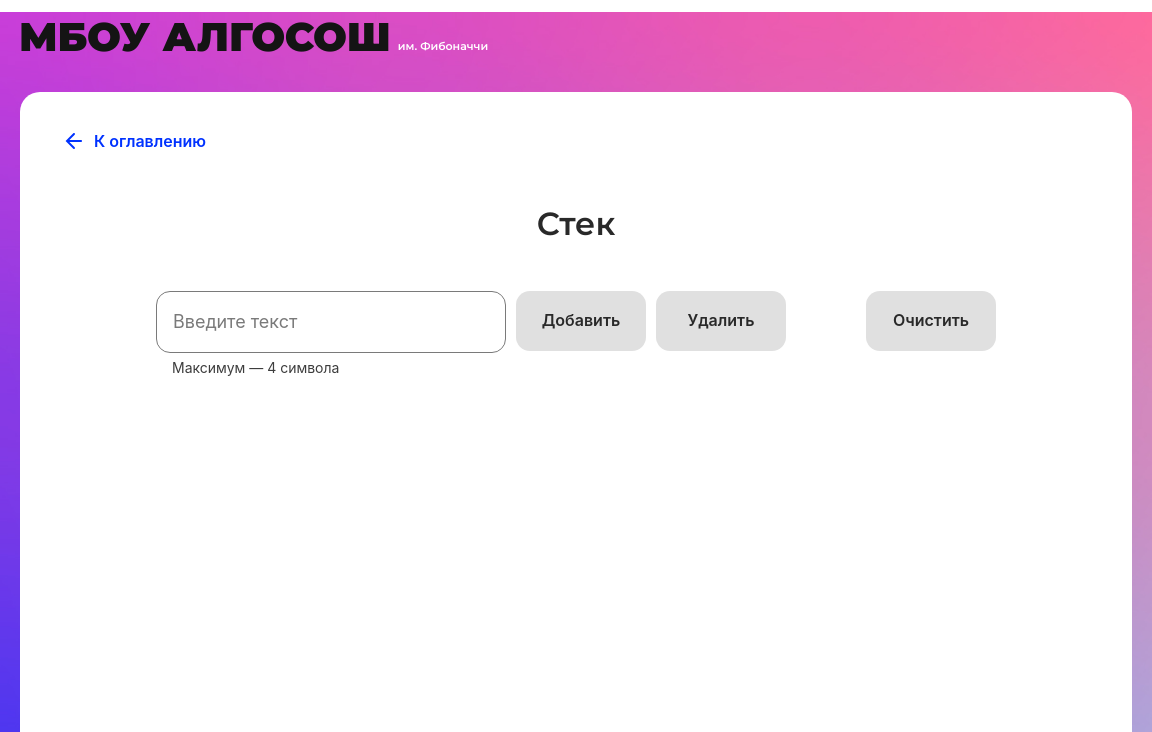
Test case: Stack test › The element is being added correctly
Type "1" into the field with placeholder "Введите текст" at (331, 322), box [156,291,506,353]
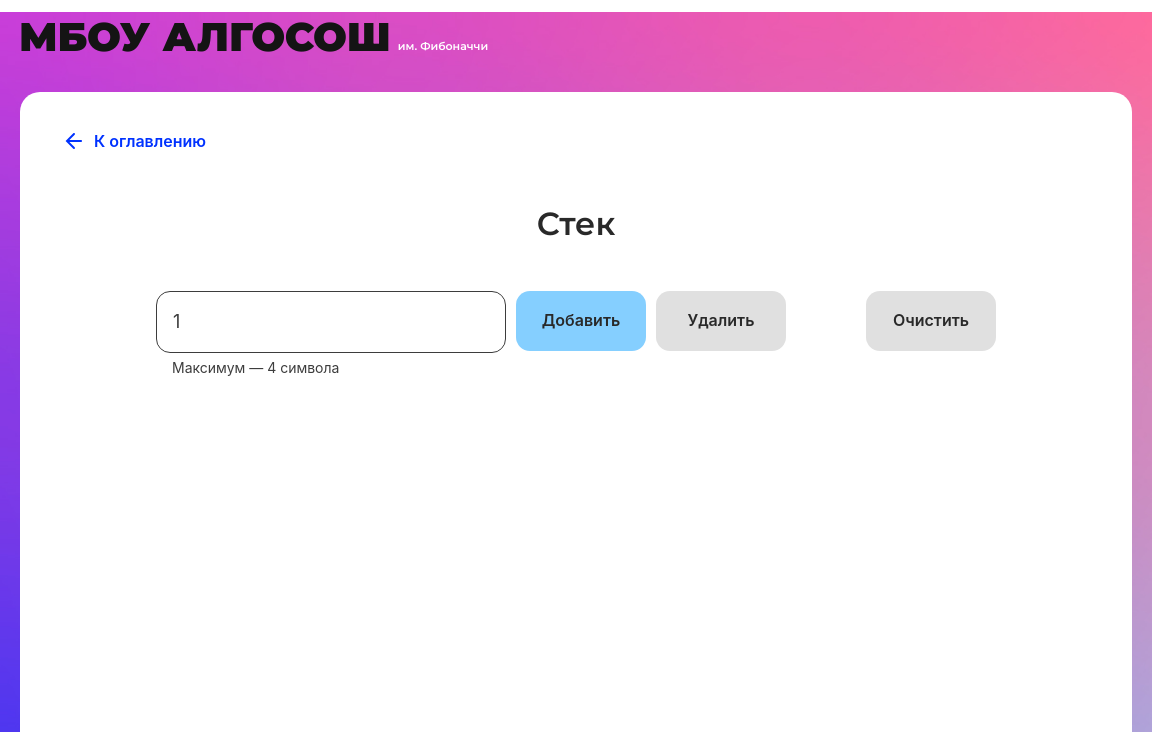
Click the submit button at (581, 321), box [516,291,646,351]
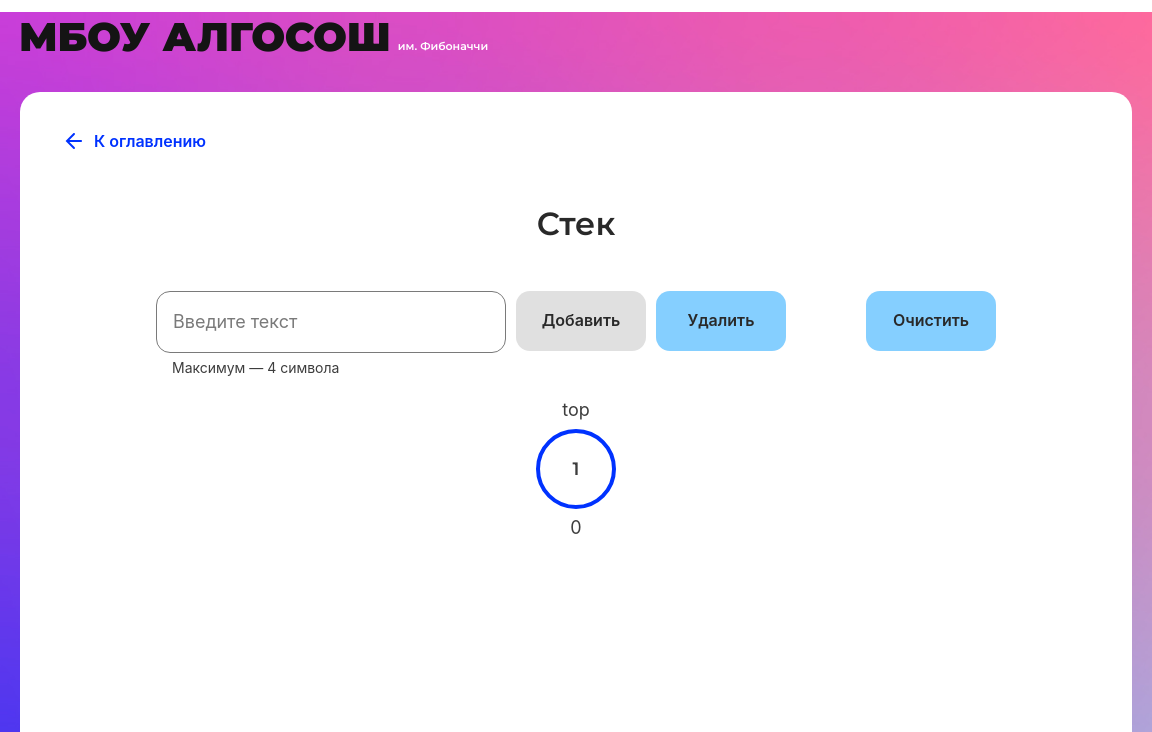
Expected: the number of elements with test id "contetnt" is 1, [536,429,616,509]
Expected: the text "1" is shown, [573,458,580,480]
Type "2" into the field with placeholder "Введите текст" at (331, 322), box [156,291,506,353]
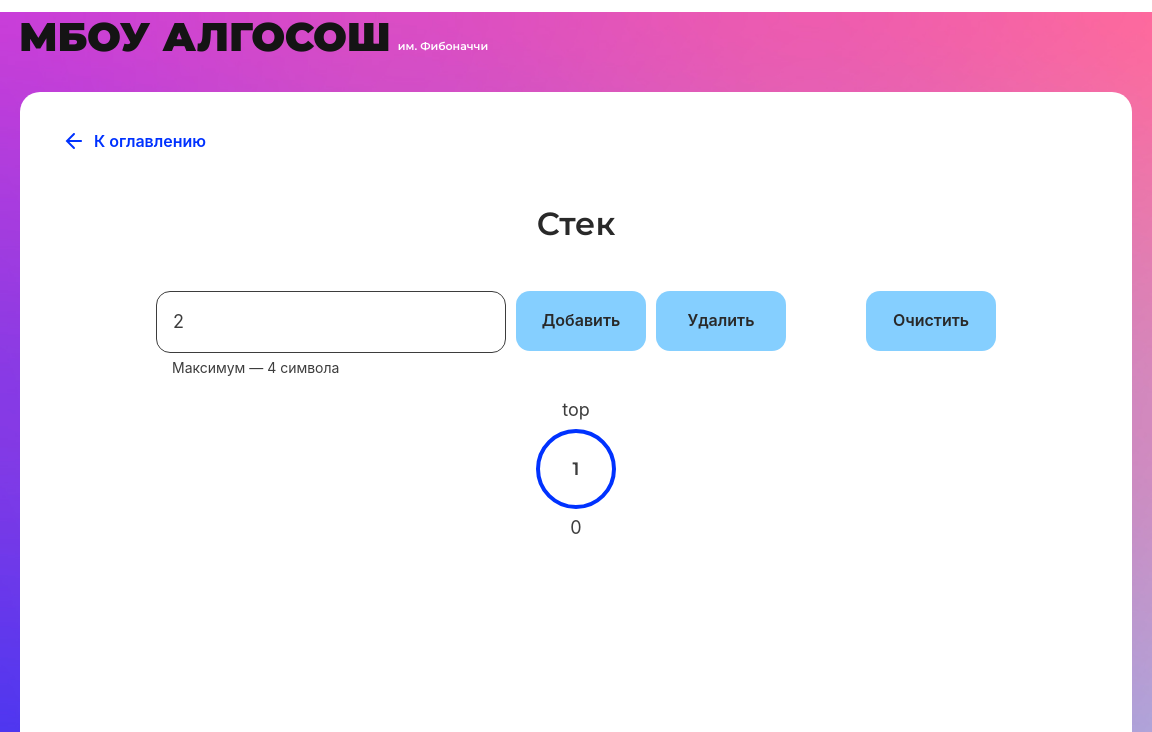
Click the submit button at (581, 321), box [516,291,646,351]
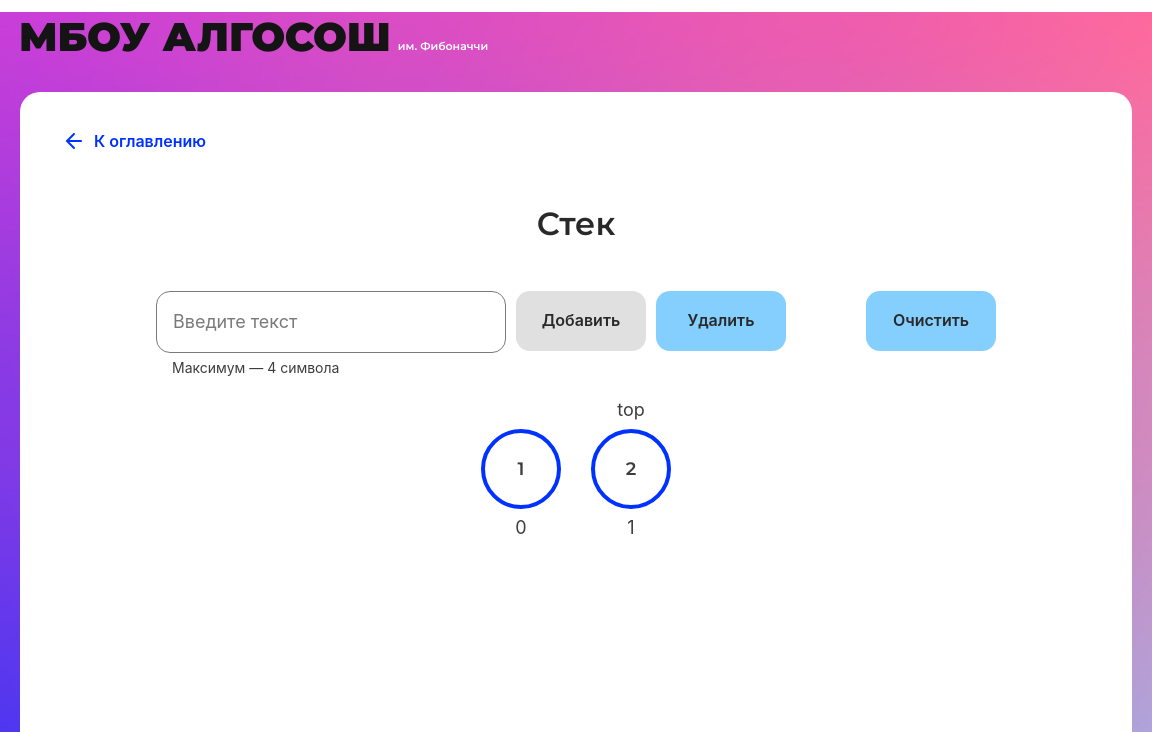
Expected: the 1st text "1" is shown, [518,458,524,480]
Expected: the number of elements with test id "contetnt" is 2, [481,429,561,509]; [591,429,671,509]
Expected: the text "2" is shown, [626,458,636,480]
Type "3" into the field with placeholder "Введите текст" at (331, 322), box [156,291,506,353]
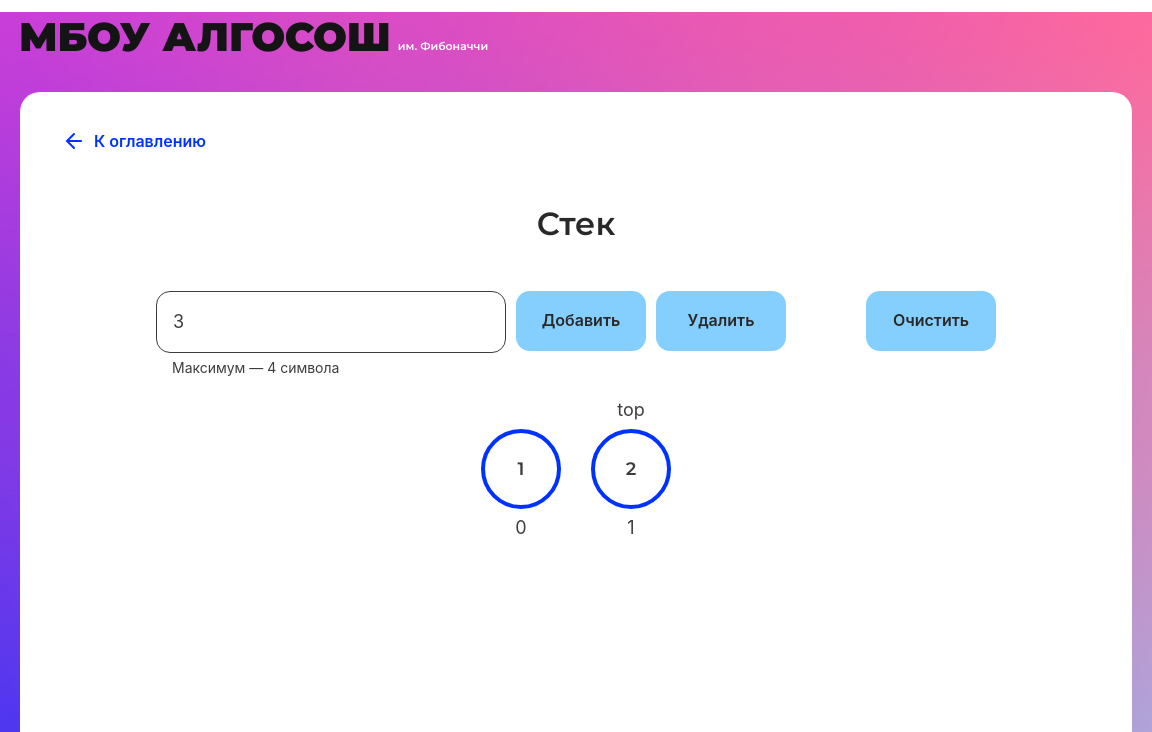
Click the submit button at (581, 321), box [516,291,646,351]
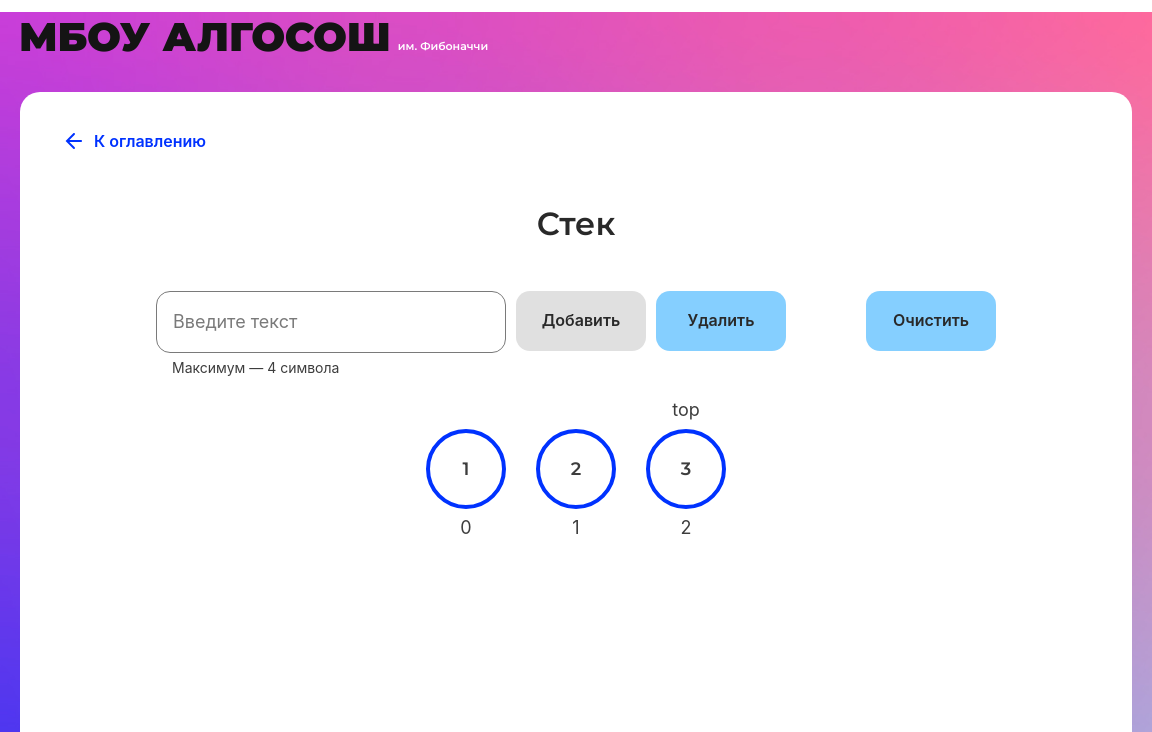
Expected: the 1st text "1" is shown, [463,458,470,480]
Expected: the 1st text "2" is shown, [571,458,581,480]
Expected: the number of elements with test id "contetnt" is 3, [426,429,506,509]; [536,429,616,509]; [646,429,726,509]
